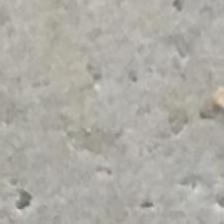Non_Crack: (25, 30, 142, 187)
